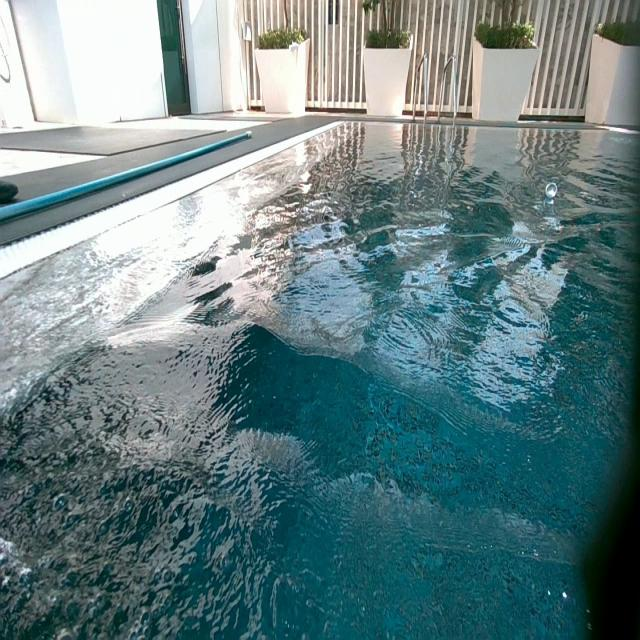Cans: (544, 181, 557, 197)
